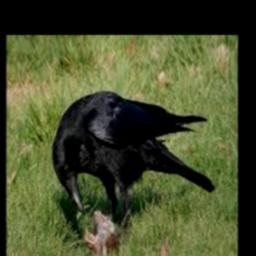Crow: (53, 91, 214, 231)
